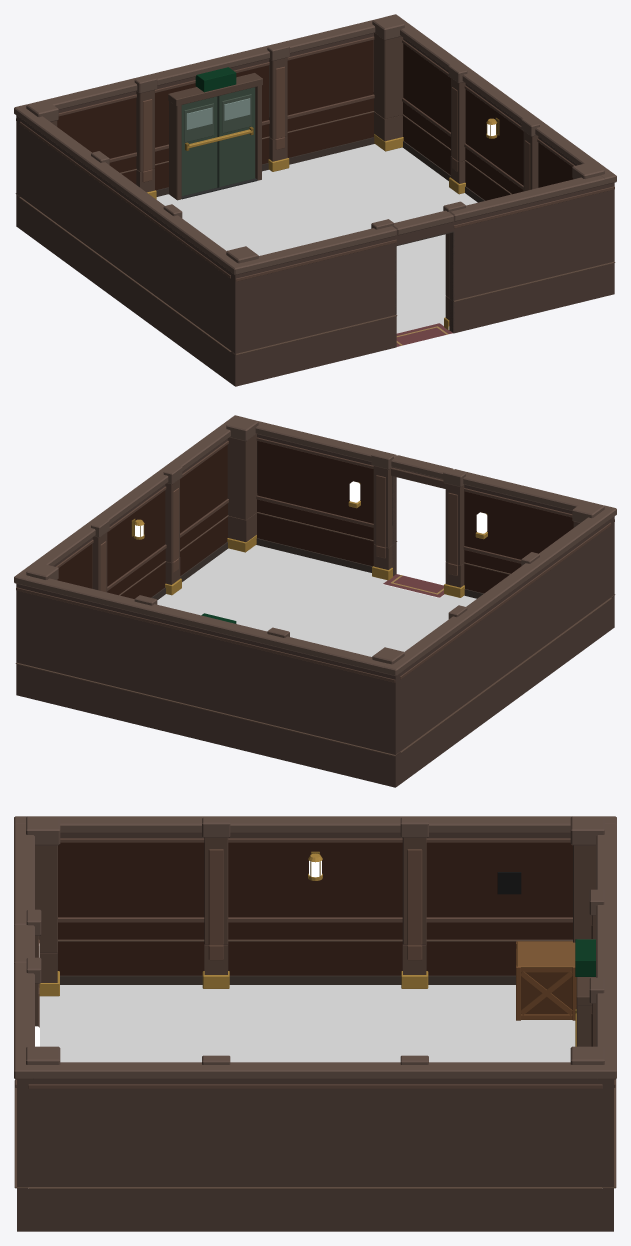
Rendered from exit.glb.
The picture shows the model from 3 angles, top to bottom: view 1: azimuth 30°, elevation 25°; view 2: azimuth 150°, elevation 25°; view 3: azimuth 270°, elevation 25°; orthographic projection. The views are drawn at different scales.
Parts seen in each view (by area): view 1: static, W_north_0_up, floor, W_west_0_up, W_south_0_up, W_south_1_up, W_east_0_up; view 2: W_north_0_up, static, W_west_0_up, floor, W_south_1_up, W_east_0_up, W_south_0_up; view 3: W_east_0_up, W_west_0_up, static, floor, W_north_0_up, W_south_0_up, W_south_1_up.
Boxes of the visible parts, left/top/right/bottom form: static: left=15, top=67, right=615, bottom=386; W_north_0_up: left=14, top=15, right=404, bottom=196; floor: left=156, top=144, right=477, bottom=346; W_west_0_up: left=14, top=104, right=246, bottom=350; W_south_0_up: left=226, top=210, right=453, bottom=353; W_south_1_up: left=443, top=162, right=616, bottom=300; W_east_0_up: left=385, top=14, right=616, bottom=194; W_north_0_up: left=14, top=563, right=404, bottom=754; static: left=15, top=493, right=615, bottom=787; W_west_0_up: left=384, top=505, right=616, bottom=751; floor: left=157, top=545, right=476, bottom=656; W_south_1_up: left=226, top=416, right=396, bottom=547; W_east_0_up: left=14, top=415, right=245, bottom=595; W_south_0_up: left=391, top=455, right=616, bottom=597; W_east_0_up: left=14, top=1055, right=616, bottom=1186; W_west_0_up: left=14, top=816, right=616, bottom=945; static: left=14, top=939, right=616, bottom=1231; floor: left=39, top=985, right=575, bottom=1062; W_north_0_up: left=570, top=816, right=616, bottom=1186; W_south_0_up: left=14, top=816, right=60, bottom=987; W_south_1_up: left=14, top=957, right=60, bottom=1186.
Bounding box in the file's own units: 8.08 × 2.48 × 8.08.
